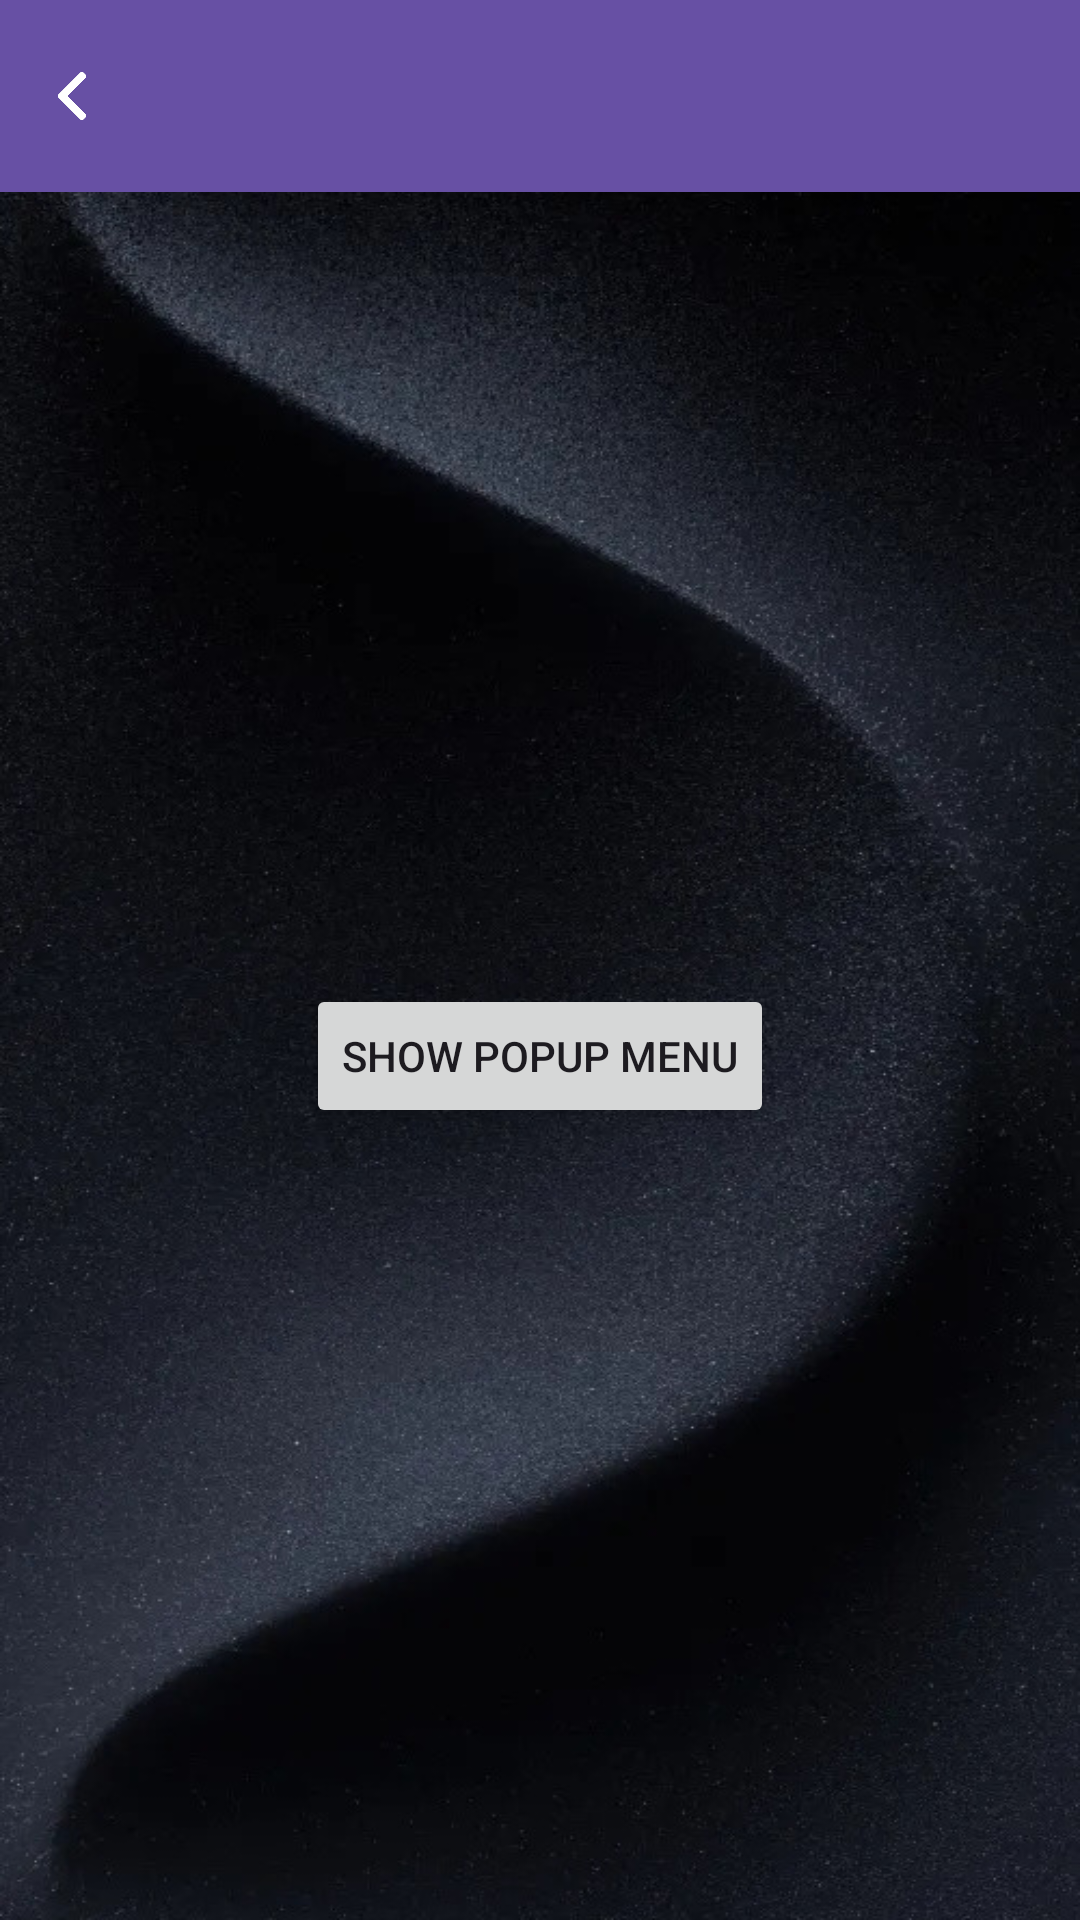

Where to tap for icons on this 1080x1920 app screen, as [x,y]:
arrow back: [72,96]
